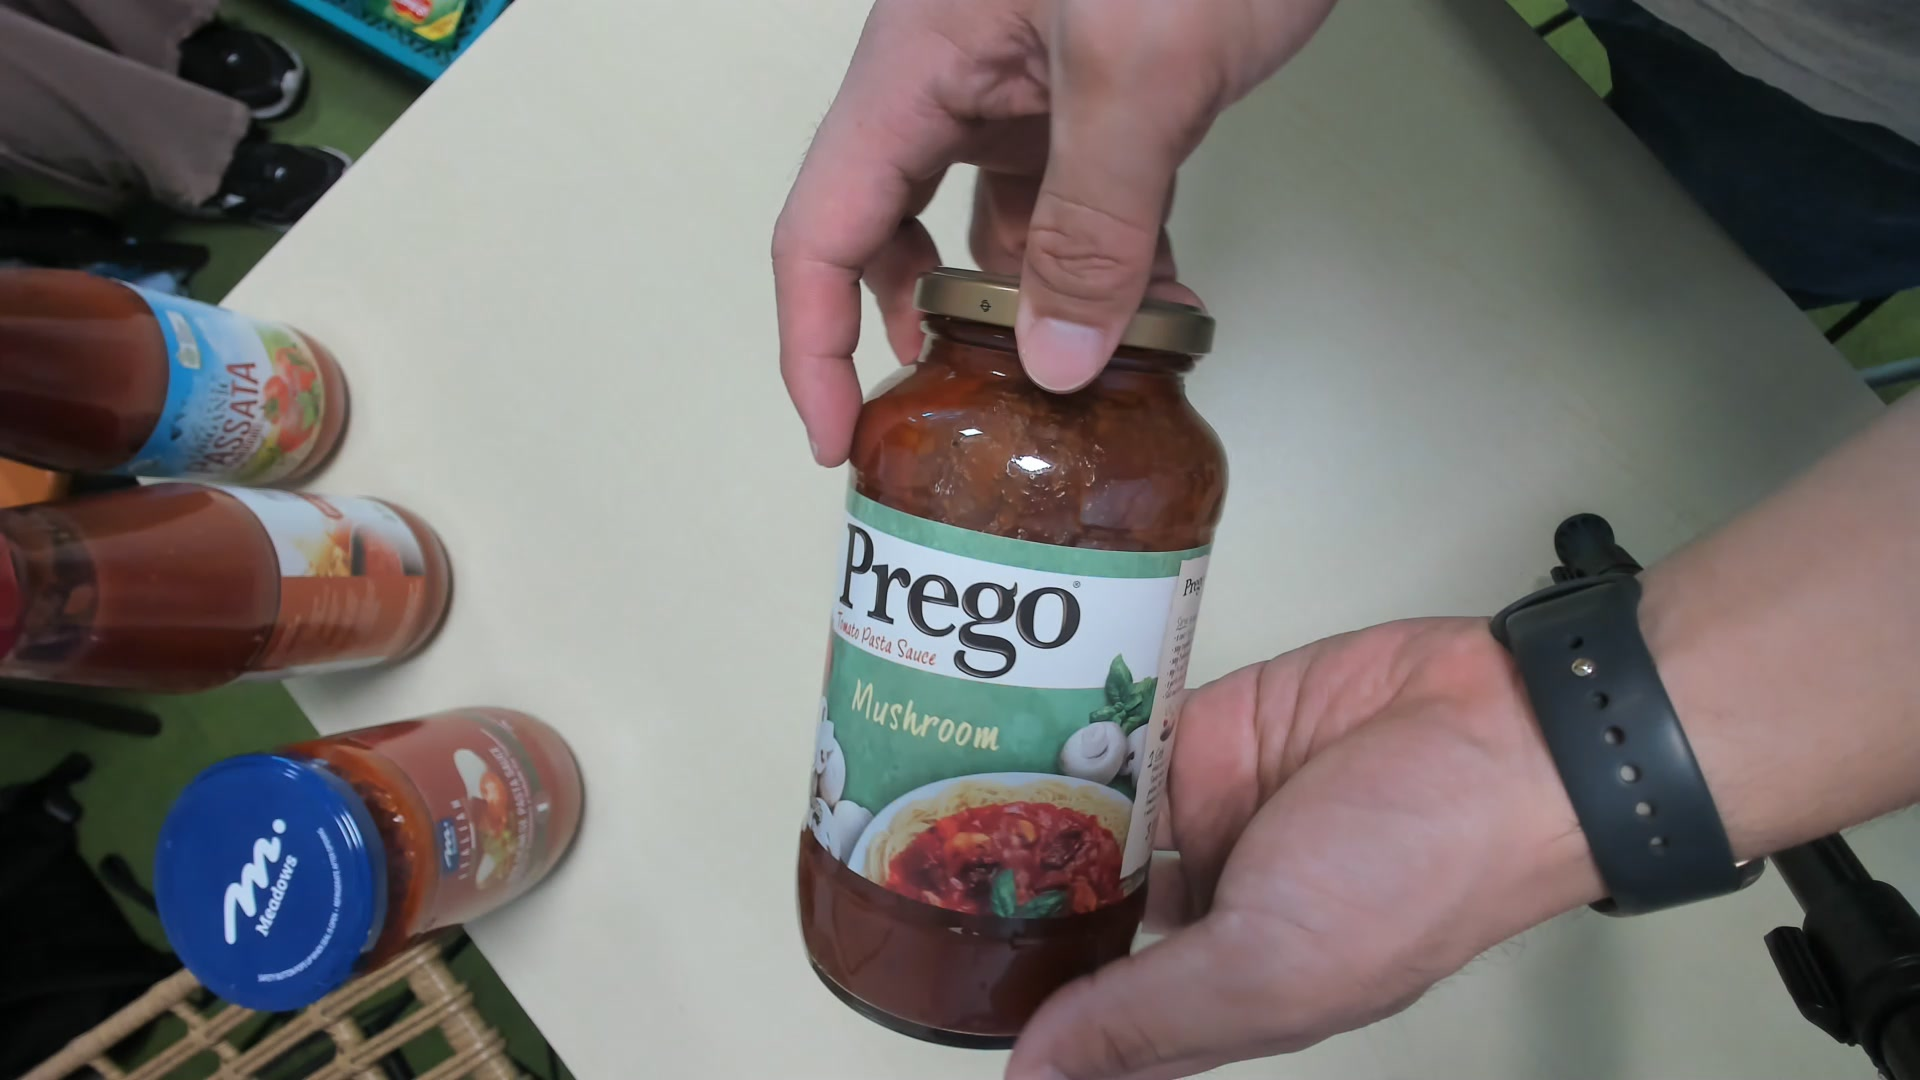PastaSauce_600-699g_Halal_NonHealthy: (804, 278, 1233, 1039)
